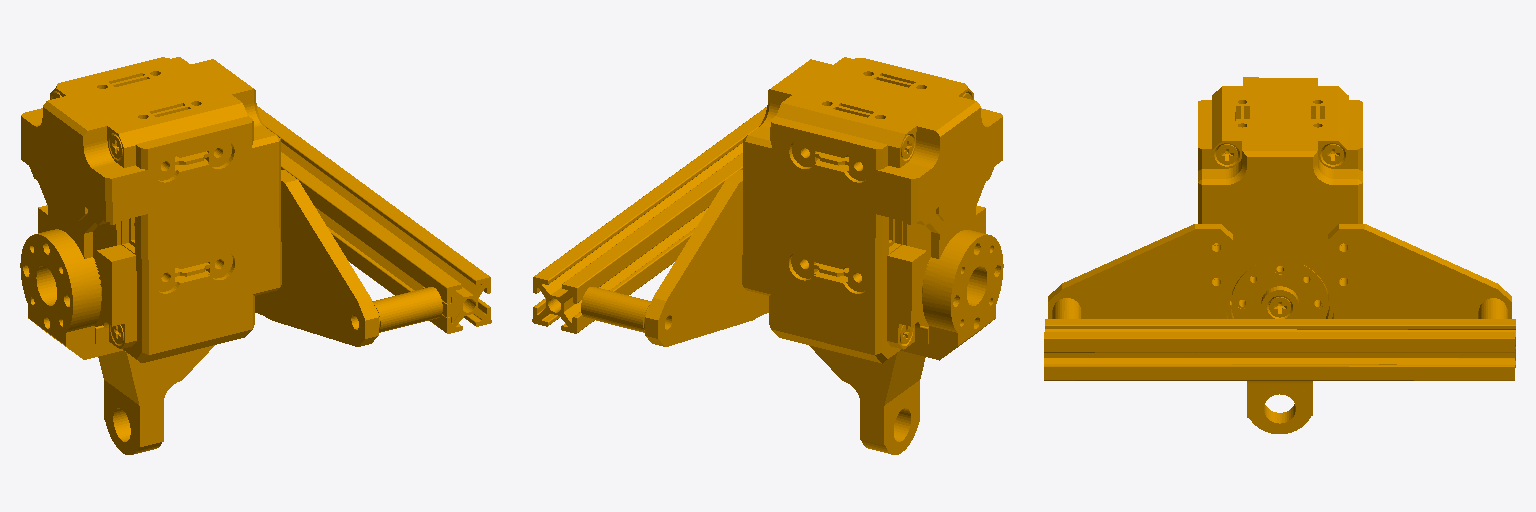
URDF robot description (test):
<?xml version="1.0"?>
<robot name="test">
  <link name="wrist_2_1">
    <visual>
      <geometry>
         <mesh filename="package://my_widowxl_description/meshes/wrist_2_1.stl"/>
      </geometry>
    </visual>
  </link>
</robot>

--- Facts derived from the render (not from the file) ---
The picture shows the robot from 3 angles, left to right: view 1: azimuth 30°, elevation 25°; view 2: azimuth 150°, elevation 25°; view 3: azimuth 270°, elevation 25°; orthographic projection.
Robot: test — 1 links, 0 joints (none); root link wrist_2_1; default pose: every joint at zero.
Visible links, largest first — view 1: wrist_2_1; view 2: wrist_2_1; view 3: wrist_2_1.
Link boxes in pixels (<box>): wrist_2_1: <box>20,57,491,454</box>; wrist_2_1: <box>532,57,1003,454</box>; wrist_2_1: <box>1044,77,1515,433</box>.
Bounding box of the posed robot: 71.5 × 100 × 75.66 m (x, y, z).
Meshes: 1 distinct files referenced, 1 mesh visuals loaded (1 binary STL).
